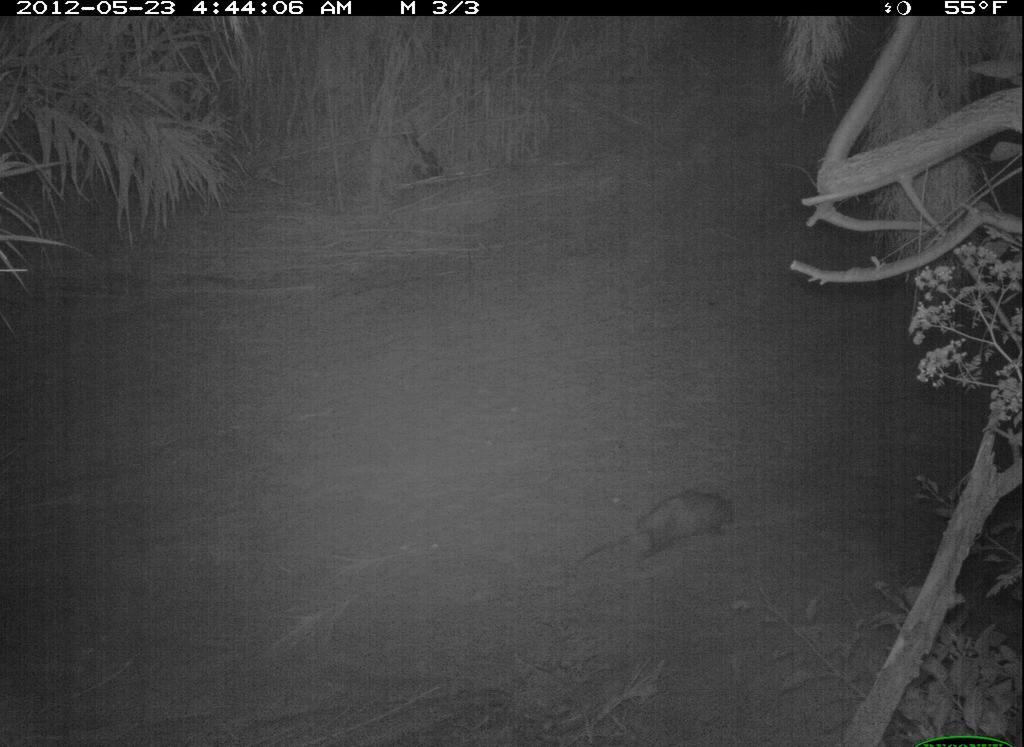opossum: (582, 491, 740, 574)
